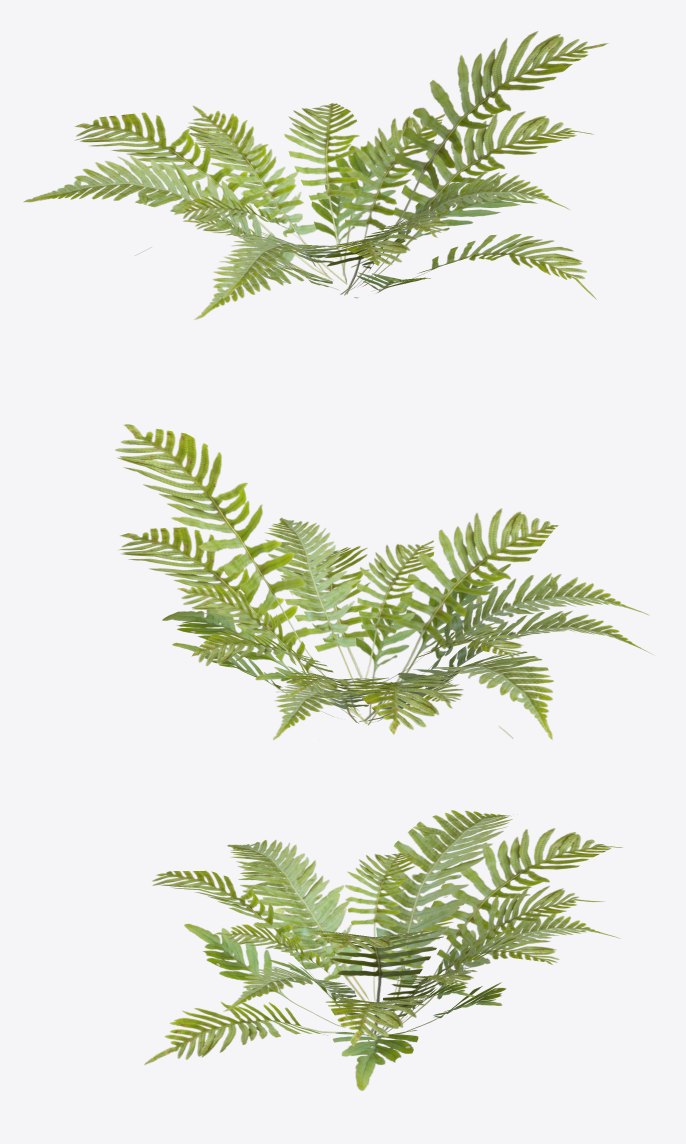
Rendered from plant.glb.
3 renders of one model, top to bottom at view 1: azimuth 30°, elevation 25°; view 2: azimuth 150°, elevation 25°; view 3: azimuth 270°, elevation 25°, orthographic. The views are drawn at different scales.
Visible parts, largest first — view 1: plant; view 2: plant; view 3: plant.
Part boxes in pixels (box(x1,y1,x2,y2)): plant: box(23, 31, 608, 319); plant: box(115, 424, 654, 740); plant: box(144, 810, 622, 1090).
Bounding box in the file's own units: 3.54 × 1.2 × 3.38.
1 material, 1 textured.
